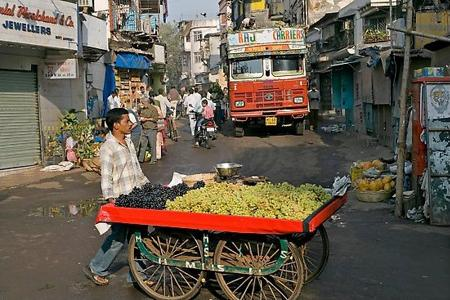person: (83, 109, 152, 284)
